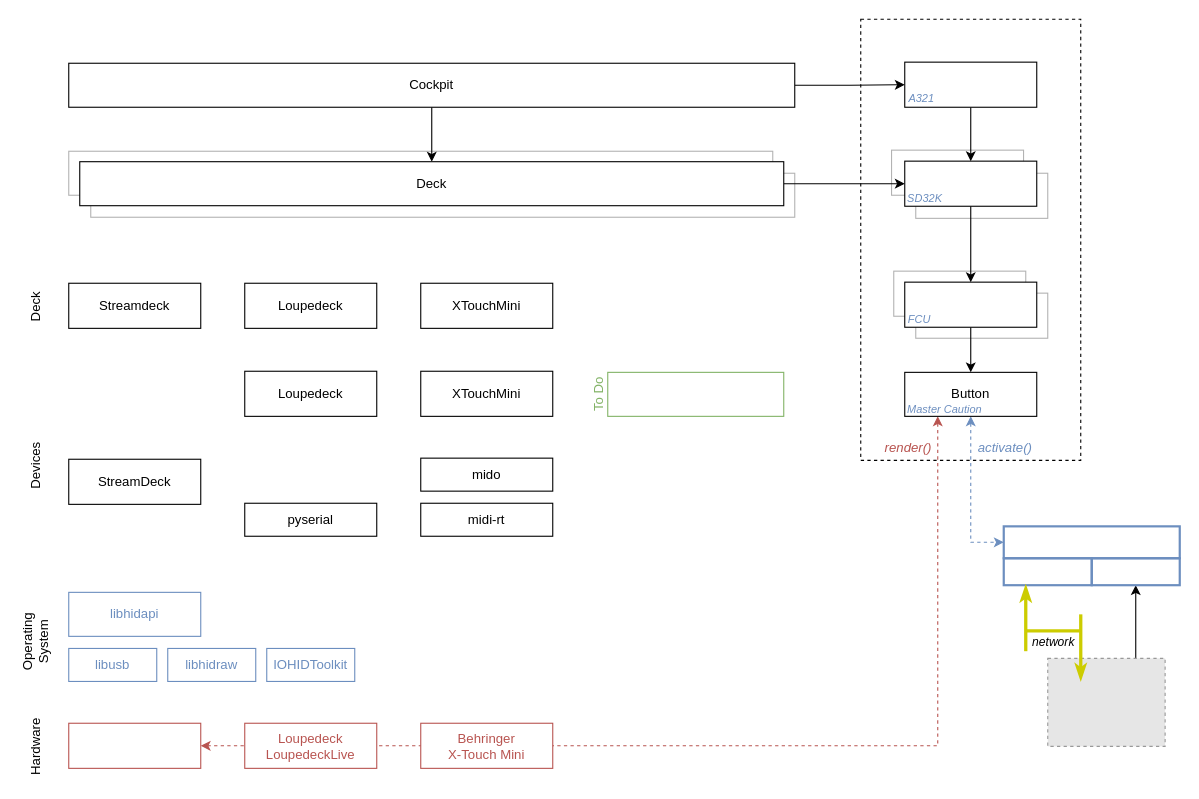
This 1199x799 diagram has some shape labels left out. Grey dashed boxes stand in for pictures. Here are the shapes that lost their labels. From the top down, the box of each, then its label:
(904, 61, 1037, 107): Aircraft
(904, 160, 1037, 206): Layout
(860, 18, 1081, 460): Deck Configuration
(904, 281, 1037, 327): Page
(607, 371, 784, 416): Open Sound Control
(1002, 525, 1180, 559): XPlane
(1002, 557, 1092, 586): XPlaneUDP
(1090, 557, 1180, 586): XPlaneSDK
(68, 722, 201, 768): Elgato Streamdeck
